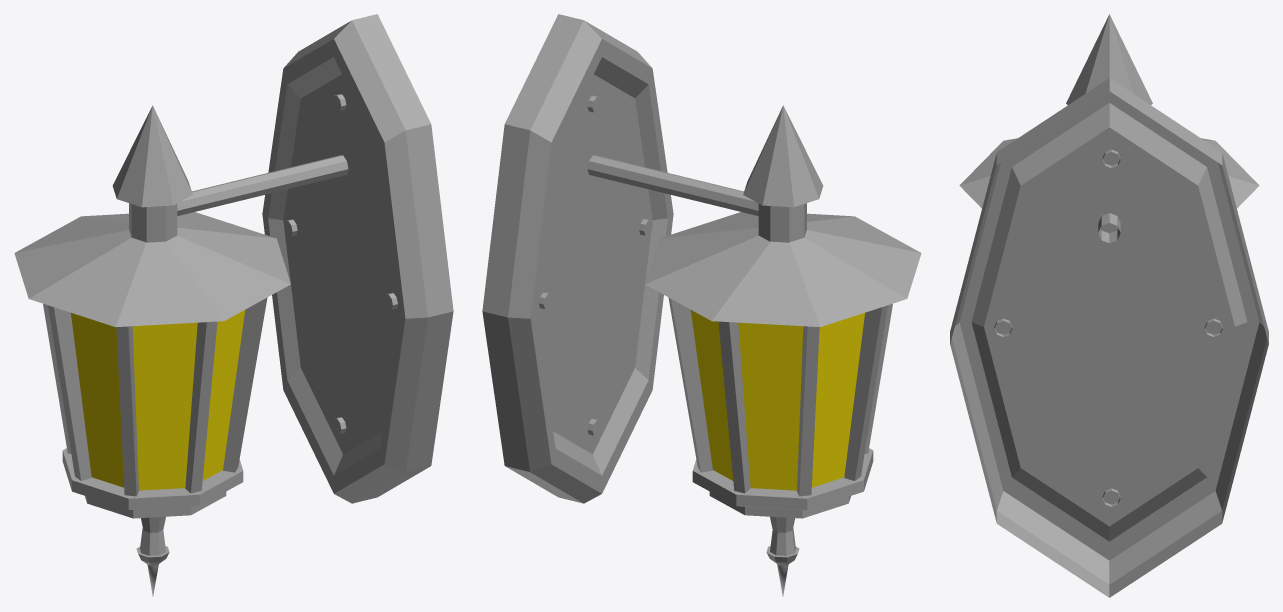
The model's file is lampara.fbx.
3 views of the same model, side by side, from view 1: azimuth 30°, elevation 25°; view 2: azimuth 150°, elevation 25°; view 3: azimuth 270°, elevation 25° (orthographic). The views are drawn at different scales.
Visible parts, largest first — view 1: pCylinder14, pCylinder9; view 2: pCylinder14, pCylinder9; view 3: pCylinder14.
Boxes of the visible parts, box(x1,y1,x2,y2) form: pCylinder14: box(14, 14, 453, 596); pCylinder9: box(71, 310, 245, 490); pCylinder14: box(482, 14, 921, 596); pCylinder9: box(690, 310, 864, 490); pCylinder14: box(950, 14, 1268, 597).
Bounding box in the file's own units: 67.62 × 98 × 51.02.
